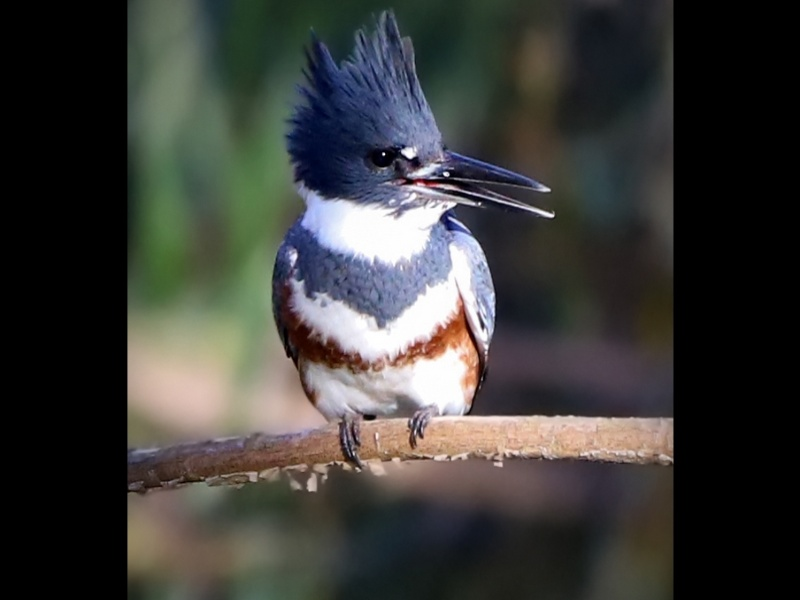kingfisher: (256, 6, 565, 465)
